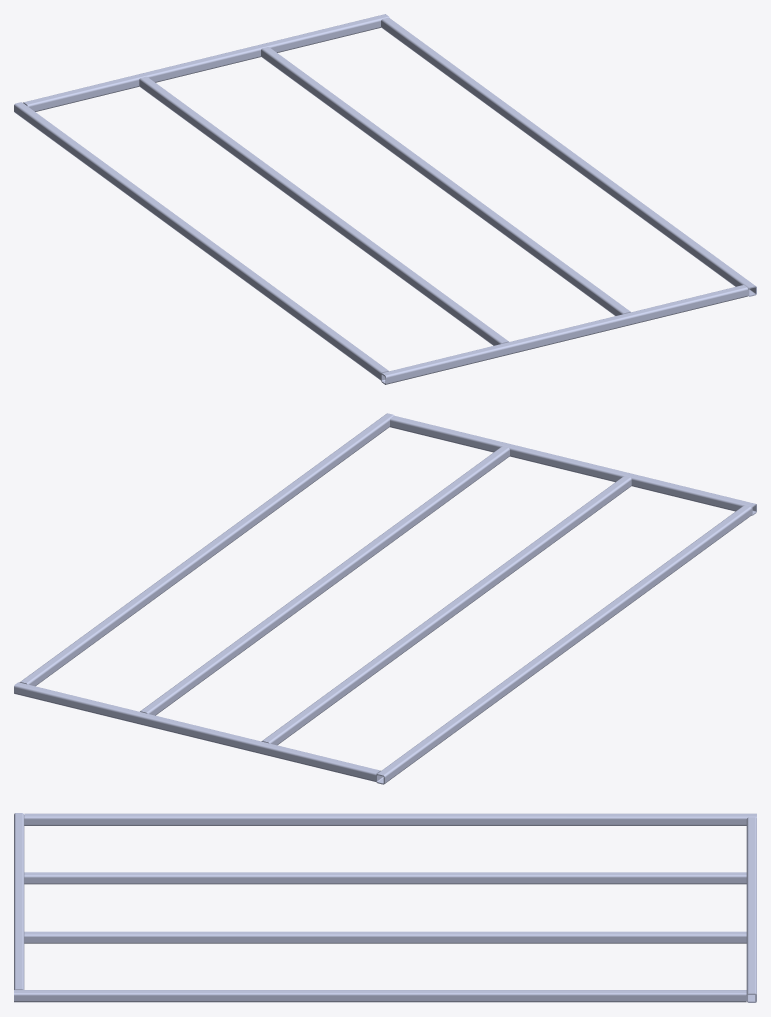
File: Frame.fbx
3 views of the same model, one above another, from view 1: azimuth 30°, elevation 25°; view 2: azimuth 150°, elevation 25°; view 3: azimuth 270°, elevation 25° (orthographic).
Parts seen in each view (by area): view 1: mesh_5; view 2: mesh_5; view 3: mesh_5.
Part boxes in pixels (bbox=[...]): mesh_5: bbox=[14, 14, 756, 384]; mesh_5: bbox=[14, 413, 756, 784]; mesh_5: bbox=[14, 813, 756, 1002].
Size of the model in its own units: 106680 by 2540 by 185420.
